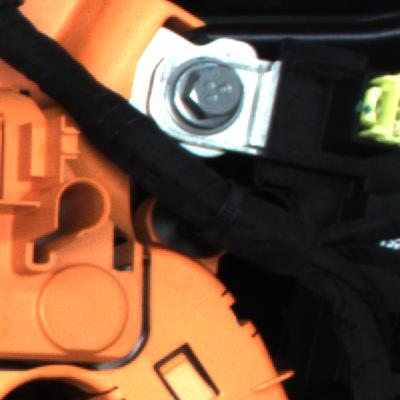nut_b: (157, 52, 251, 132)
